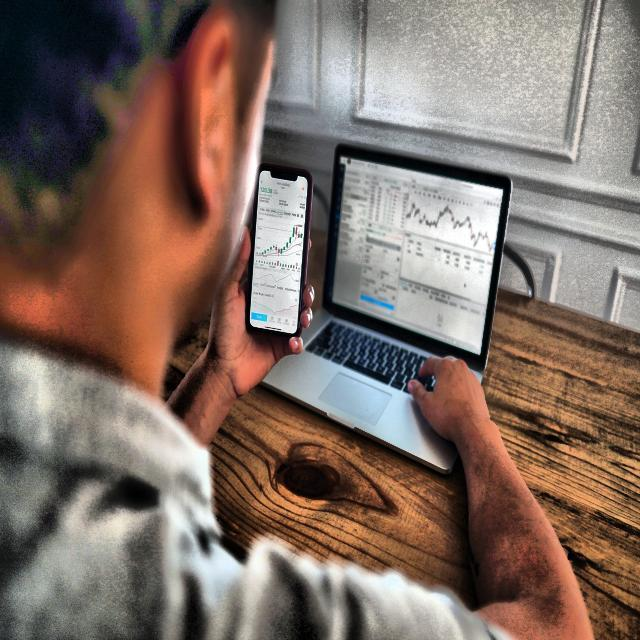Phone: (244, 160, 314, 340)
